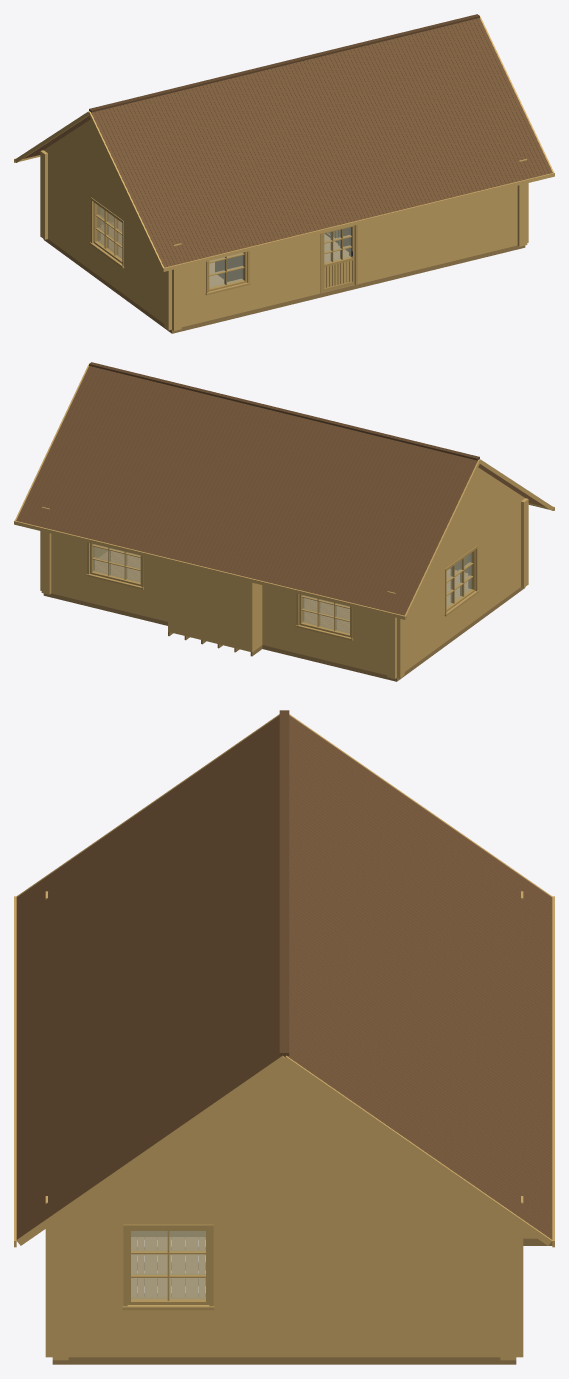
Rendered from ретрит_7_11_двойная_стена_238_мм.glb.
3 renders of one model, top to bottom at view 1: azimuth 30°, elevation 25°; view 2: azimuth 150°, elevation 25°; view 3: azimuth 270°, elevation 25°, orthographic. The views are drawn at different scales.
Visible parts, largest first — view 1: roof, walls, Ретрит 7×11 (двойная стена 238 мм), object 30, floor, object 155, object 17; view 2: roof, walls, floor, Ретрит 7×11 (двойная стена 238 мм), object 142, object 129, object 155; view 3: roof, walls, object 168, Ретрит 7×11 (двойная стена 238 мм), floor.
Boxes of the visible parts, x1,y1,x2,y2 form: roof: (14,14,554,271); walls: (40,119,528,330); Ретрит 7×11 (двойная стена 238 мм): (43,239,525,333); object 30: (209,253,242,287); floor: (100,221,348,285); object 155: (97,205,121,258); object 17: (324,227,350,262); roof: (14,362,554,619); walls: (40,467,528,678); floor: (95,551,468,631); Ретрит 7×11 (двойная стена 238 мм): (43,587,525,681); object 142: (93,544,140,582); object 129: (303,595,349,633); object 155: (447,553,471,606); roof: (14,710,554,1247); walls: (45,891,536,1360); object 168: (131,1231,205,1298); Ретрит 7×11 (двойная стена 238 мм): (52,1238,552,1364); floor: (131,1237,205,1296).
Bounding box in the file's own units: 11.96 × 5.29 × 7.93.
